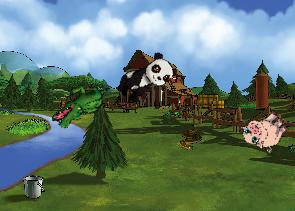crocodile: (49, 70, 111, 139)
panda: (112, 48, 179, 109)
pig: (237, 102, 293, 158)
